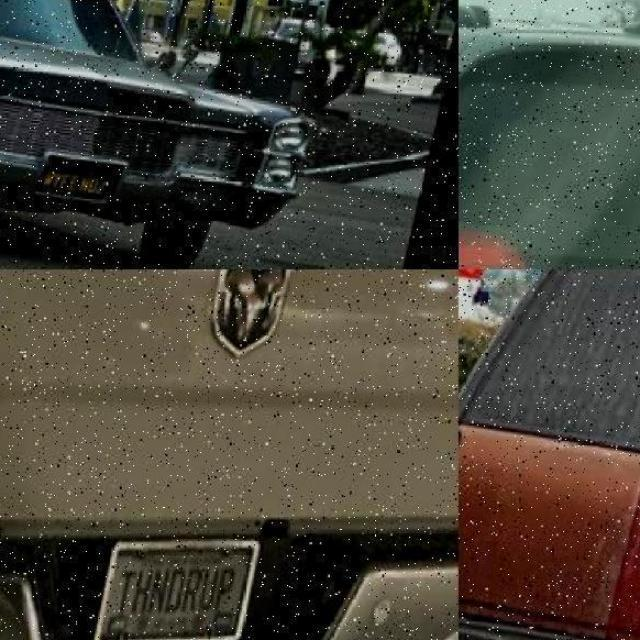license-plate: (96, 542, 285, 640), (44, 153, 130, 207)
